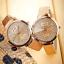watch: (5, 18, 32, 48), (31, 16, 59, 43)
